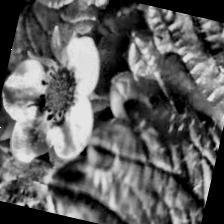Blossom Blight: (30, 57, 88, 130)
